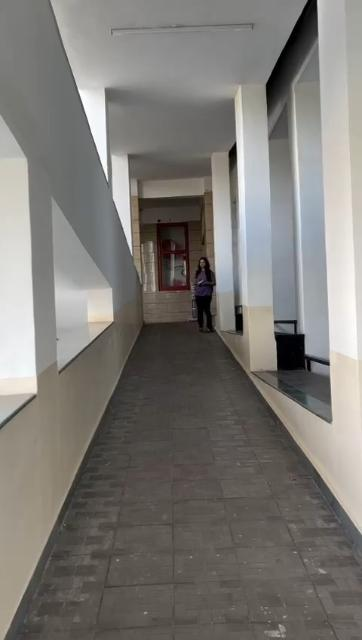floor: (5, 318, 361, 640)
moving-obj: (198, 256, 221, 336)
wall: (1, 321, 126, 640), (1, 1, 50, 396), (330, 0, 362, 498), (52, 23, 114, 277), (236, 89, 274, 394), (285, 86, 331, 312), (113, 146, 137, 350), (215, 154, 235, 332), (133, 185, 155, 322), (158, 292, 190, 321), (190, 220, 214, 254)
